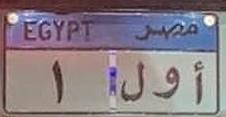1: (48, 57, 67, 105)
alif: (190, 59, 207, 106)
laam: (118, 57, 147, 105)
waw: (152, 64, 180, 104)
